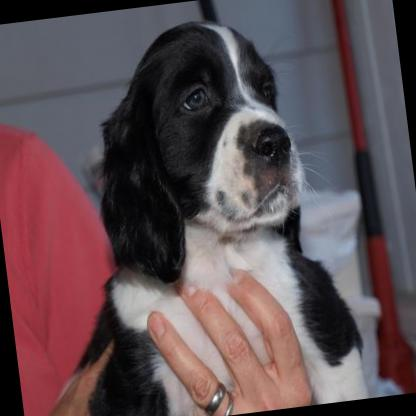English_setter: (5, 0, 368, 416)
